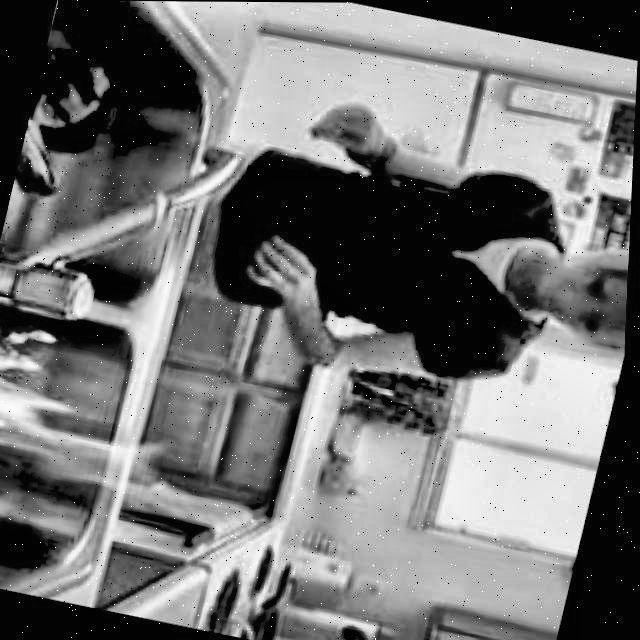Fire: (0, 369, 178, 495), (0, 323, 66, 382)
